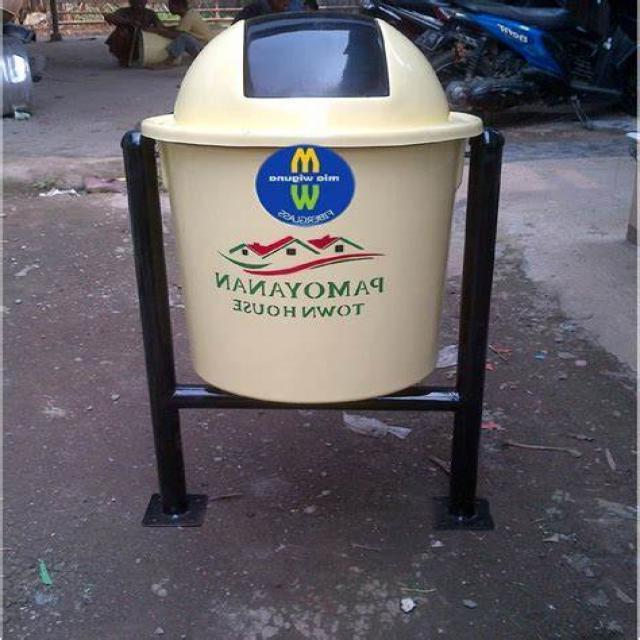garbage container: (29, 0, 542, 532)
